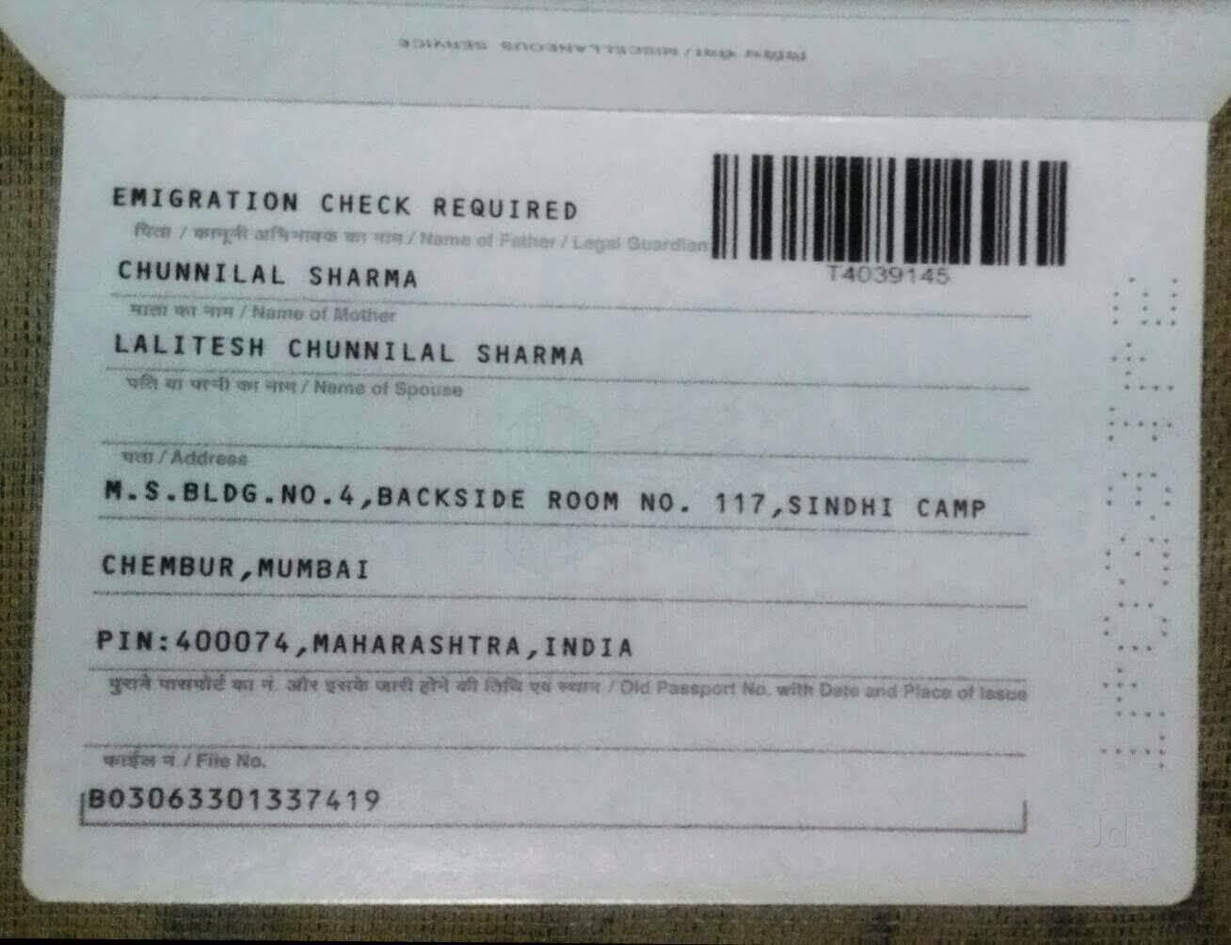File_no: (74, 777, 409, 827)
address: (88, 471, 1032, 664)
father_name: (102, 247, 449, 304)
mother_name: (98, 318, 609, 381)
passport_no: (816, 259, 965, 293)
